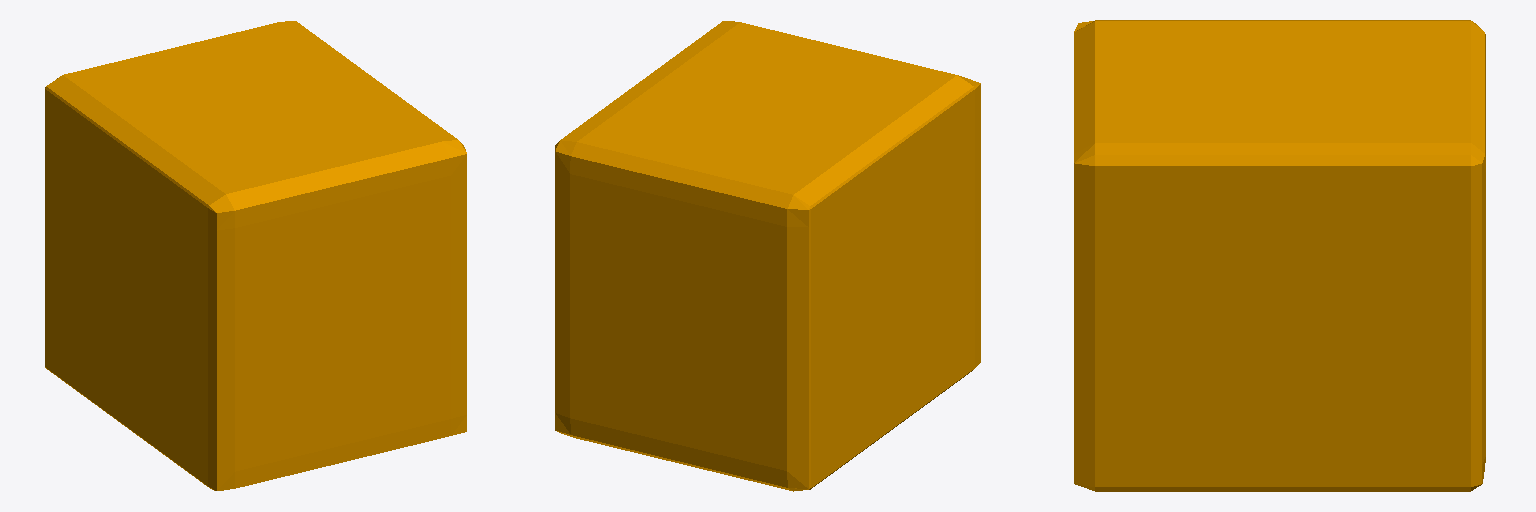
robot.urdf — cylinder_box_132:
<?xml version="1.0" encoding="utf-8"?>  <robot name="cylinder_box_132">   <link name="cylinder_box_132">     <visual>       <geometry>         <mesh filename="../meshes/box/box_132.stl" scale="1 1 1"/>       </geometry>     </visual>     <collision>       <geometry>         <mesh filename="../meshes/box/box_132.stl" scale="1 1 1"/>       </geometry>     </collision>     <inertial>        <origin         xyz="0 0 0"         rpy="0 0 0" />       <mass value="0.6049055920242333"/>       <origin rpy="0 0 0" xyz="0 0 0"/>       <inertia ixx="0.0007943767302173392" ixy="-3.4298811921730507e-07" ixz="6.9658353517698635e-09" iyy="0.0006557249837885725" iyz="-1.6627617071828673e-07" izz="0.000729747263417872"/>     </inertial>   </link>  </robot>

--- Facts derived from the render (not from the file) ---
The picture shows the robot from 3 angles, left to right: view 1: azimuth 30°, elevation 25°; view 2: azimuth 150°, elevation 25°; view 3: azimuth 270°, elevation 25°; orthographic projection.
Model cylinder_box_132 with 1 links and 0 joints (none), rooted at cylinder_box_132, posed all joints at 0.
Links seen in each view (by area): view 1: cylinder_box_132; view 2: cylinder_box_132; view 3: cylinder_box_132.
Link boxes in pixels (x1,y1,x2,y2): cylinder_box_132: [45, 21, 466, 490]; cylinder_box_132: [555, 21, 980, 491]; cylinder_box_132: [1074, 20, 1485, 491].
Bounding box of the posed robot: 0.0769 × 0.0933 × 0.085 m (x, y, z).
1 mesh visuals loaded from 1 distinct referenced files (1 binary STL).